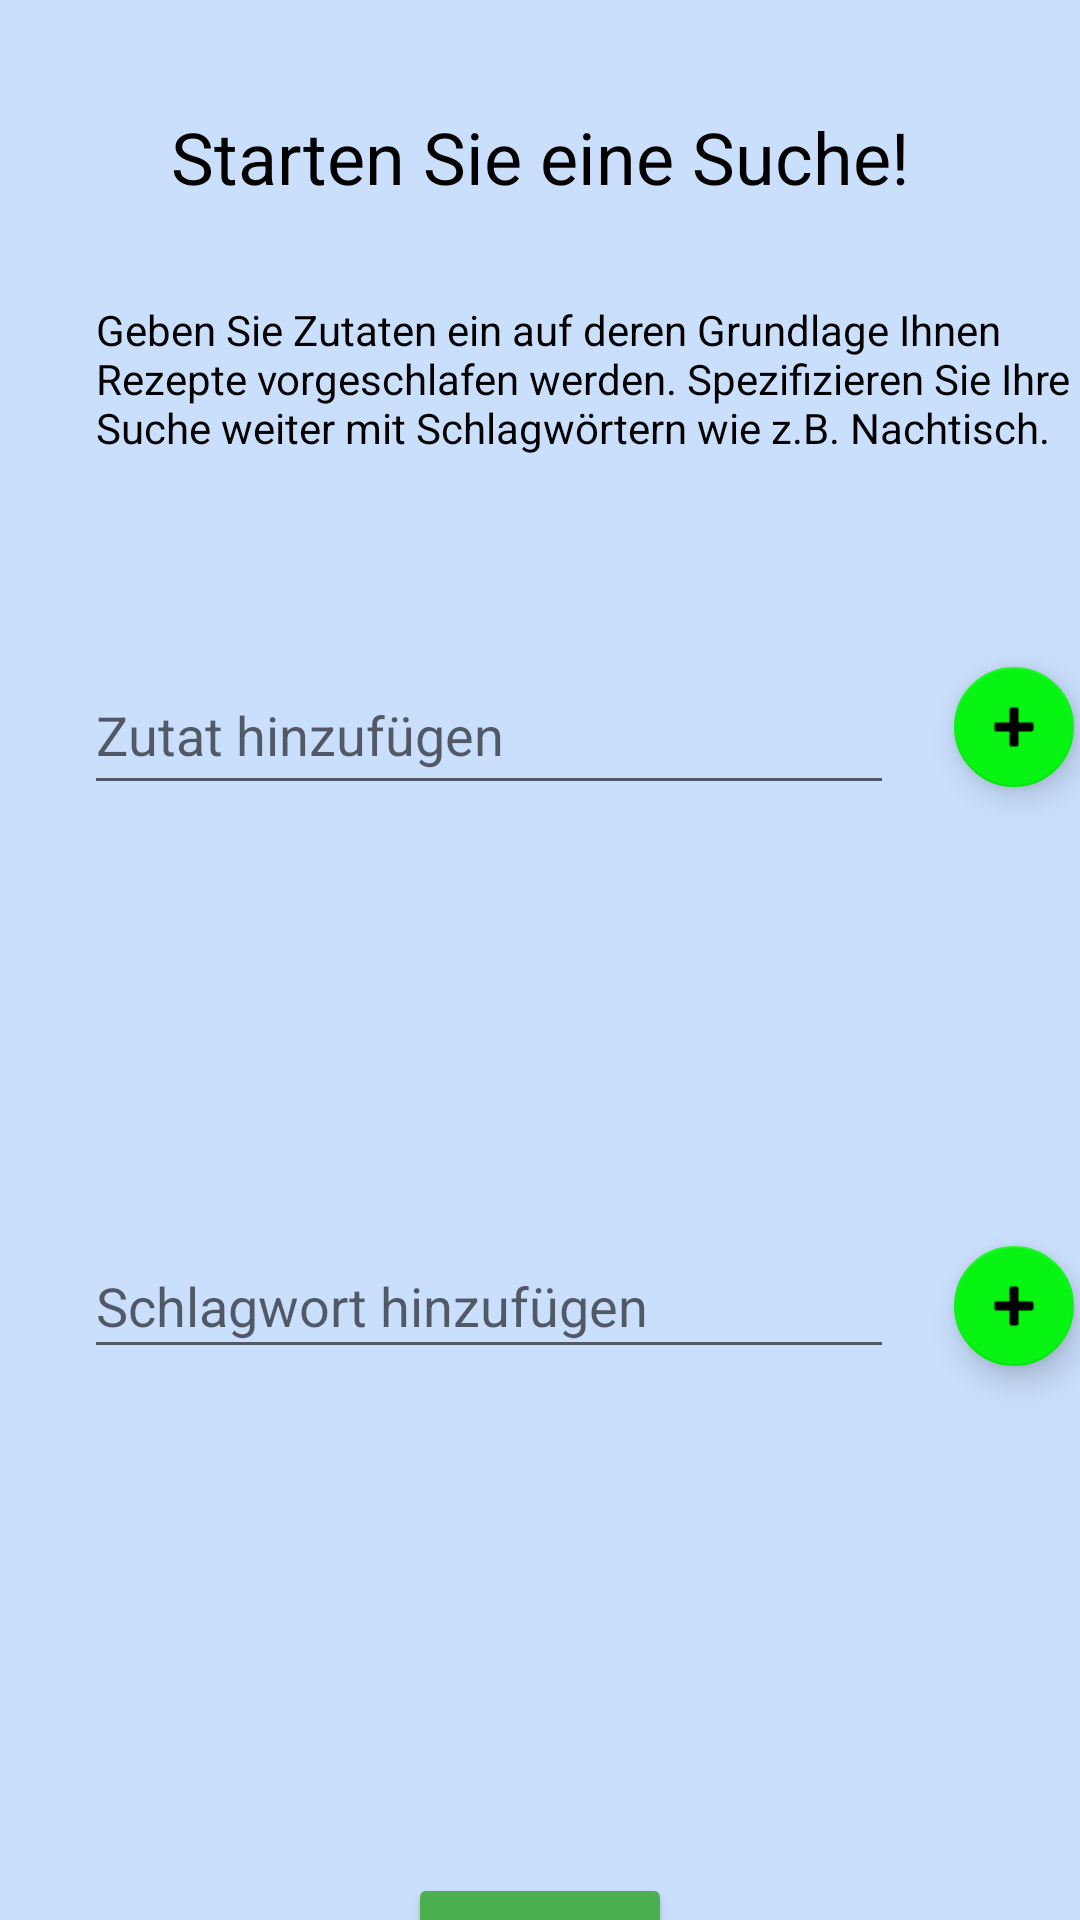

Named icons in this screenshot (1080x1920) and their centers, [x,y]:
add: [1015,729], [1015,1311]
